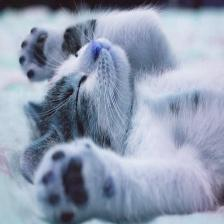kedo: (20, 8, 224, 223)
